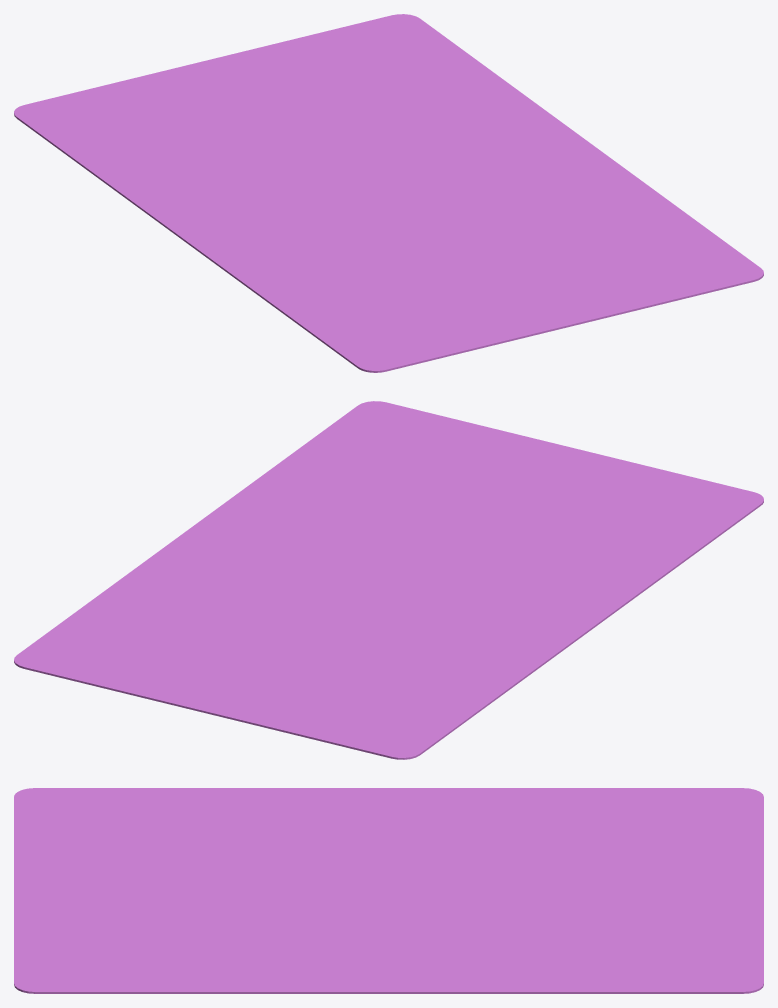
The model's file is card.glb.
The picture shows the model from 3 angles, top to bottom: view 1: azimuth 30°, elevation 25°; view 2: azimuth 150°, elevation 25°; view 3: azimuth 270°, elevation 25°; orthographic projection. The views are drawn at different scales.
Visible parts, largest first — view 1: Card; view 2: Card; view 3: Card.
Boxes of the visible parts, x1,y1,x2,y2 form: Card: [14, 14, 763, 372]; Card: [14, 401, 763, 759]; Card: [14, 788, 763, 993].
Size of the model in its own units: 11.44 by 0.05 by 17.78.
